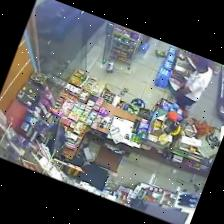person: (174, 56, 211, 109)
